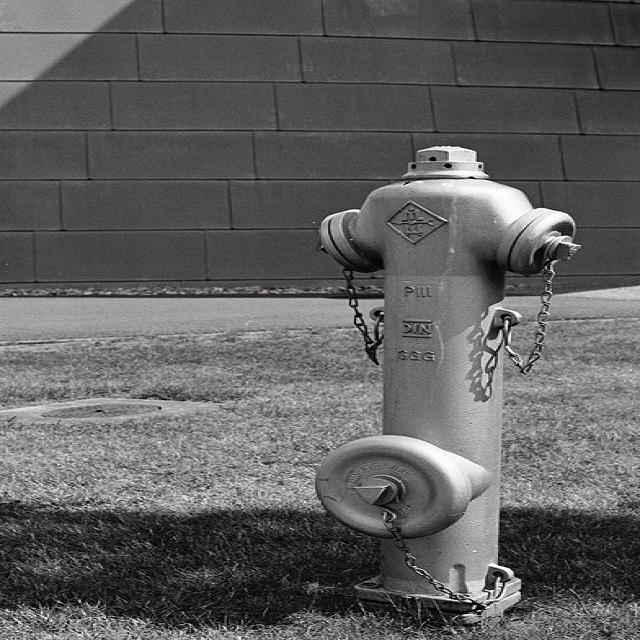fire_hydrant: (312, 138, 583, 621)
